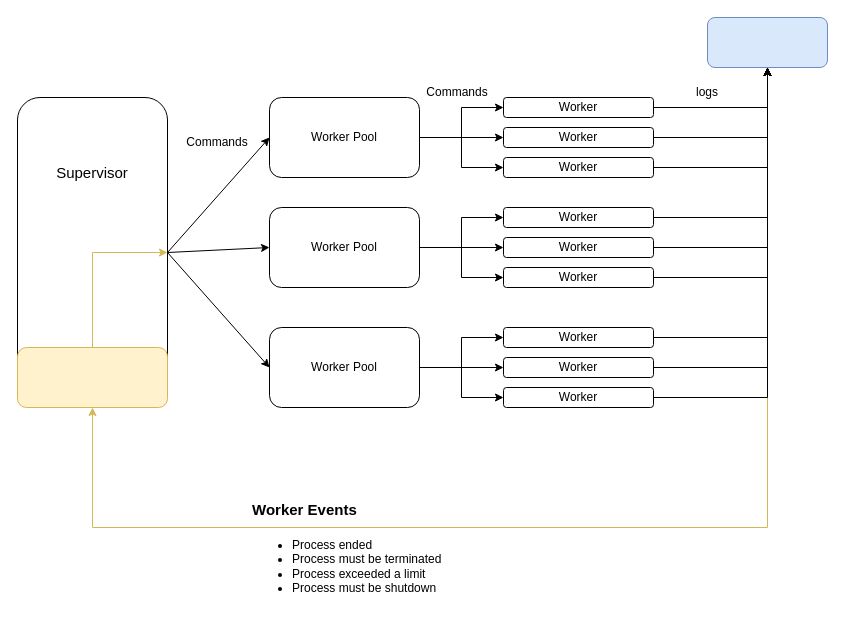
Image size: 845x625. Some labels were removed from this diagram. Each missing label, with the centre of its shape:
"Event Handler" belongs at point 92,377.
"stdout/stderr" belongs at point 767,42.
